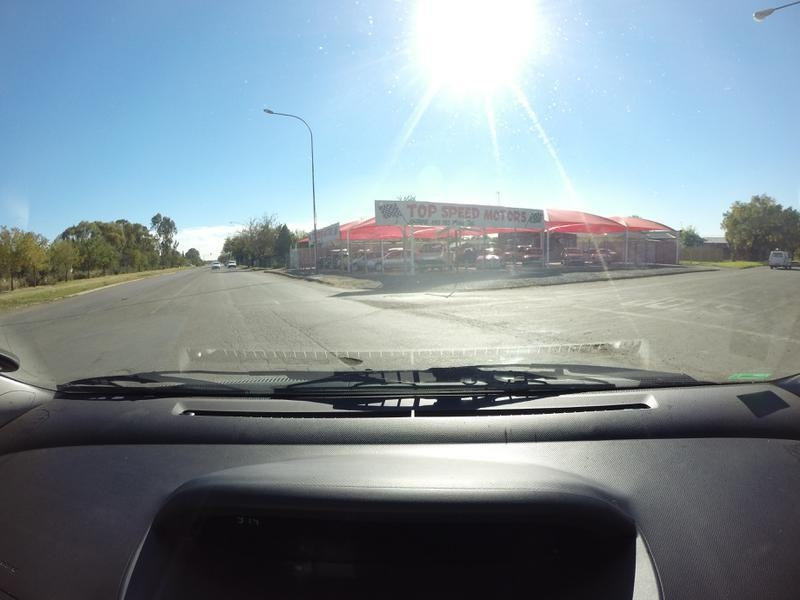pothole: (584, 338, 620, 351), (338, 350, 361, 365)
